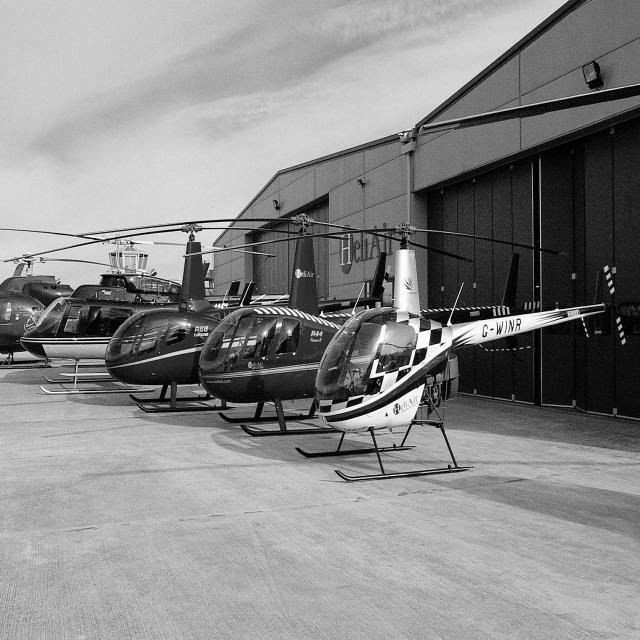helicopter: (301, 206, 640, 503), (185, 216, 409, 452), (94, 211, 269, 429), (15, 214, 169, 418), (1, 209, 96, 413)
